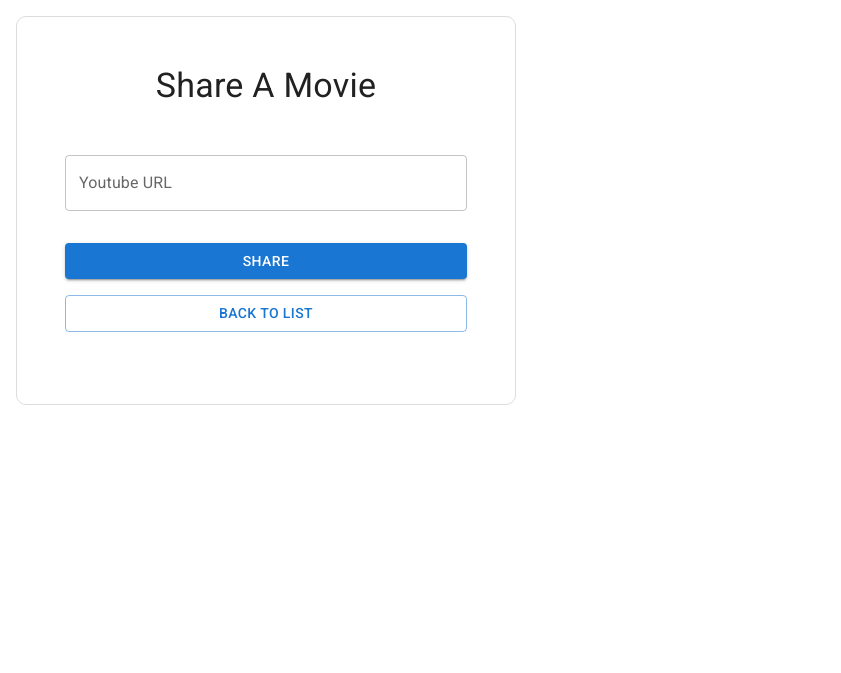
it: share url not found movie
Type "https://www.youtube.com/watch?v=9SnAO_QYRGi" into the field labelled "Youtube URL" at x=266, y=183, box [65,155,467,211]
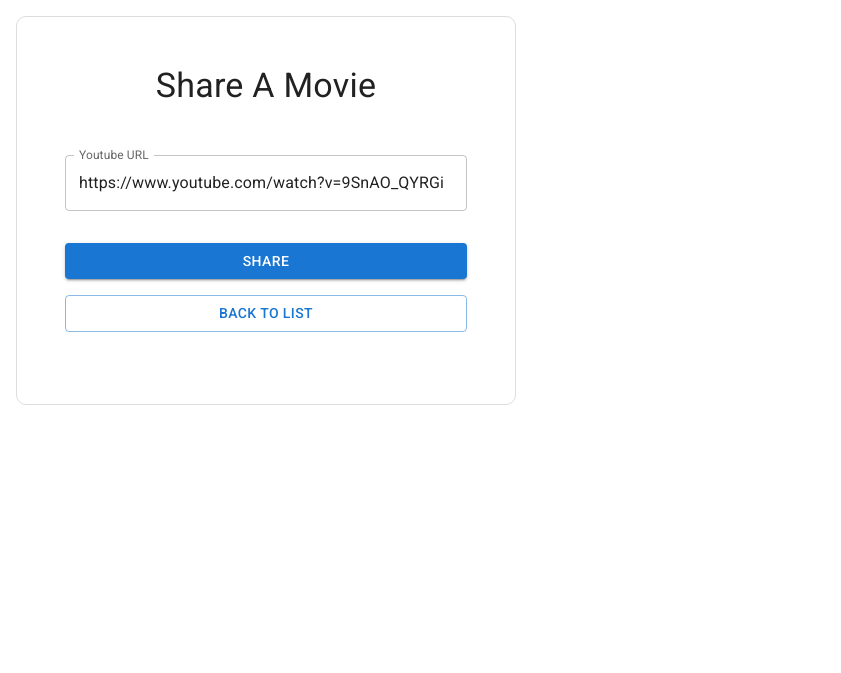
Click the button "Share" at x=266, y=261, box [65,243,467,280]
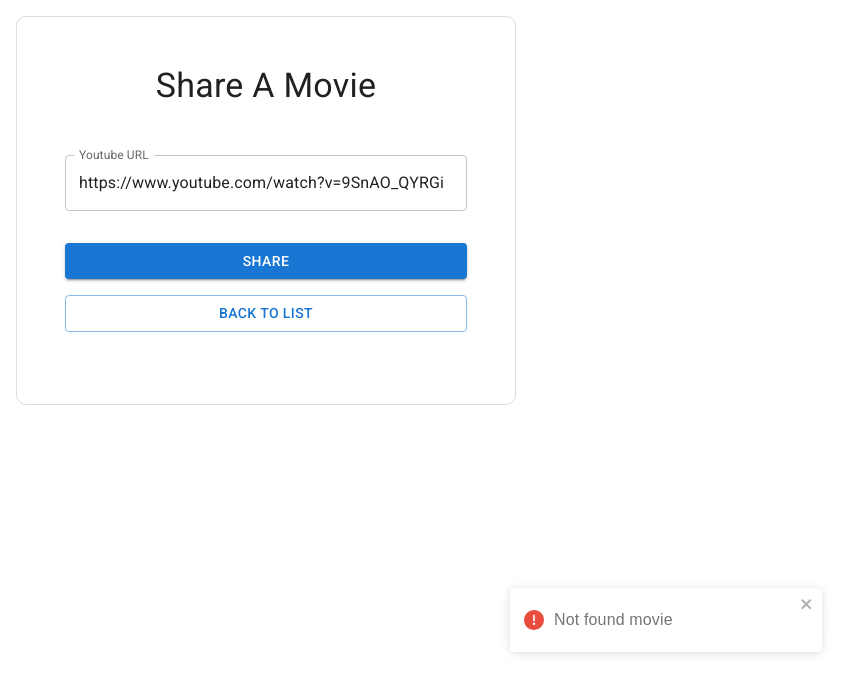
Result: the text "Not found movie" is shown at [554,611,673,628]
